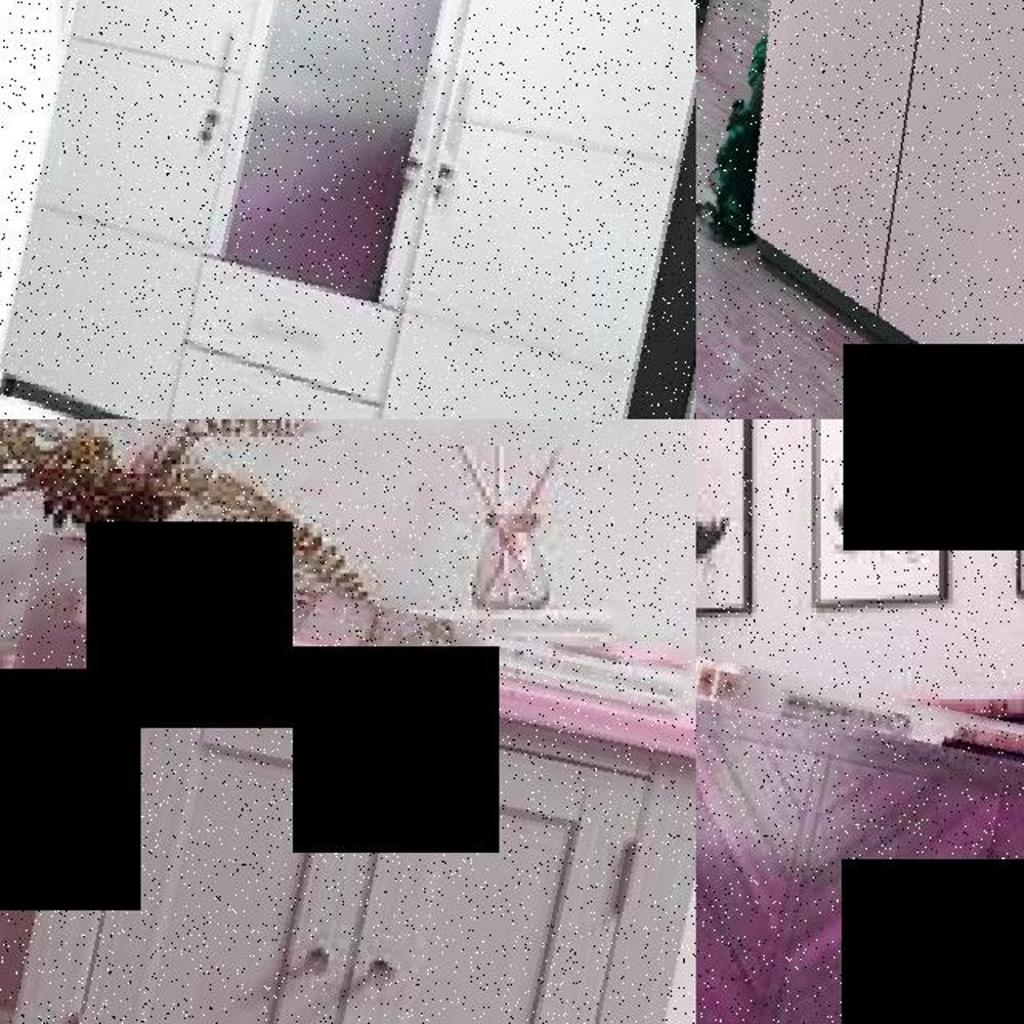cabinet: (0, 568, 696, 1024), (10, 0, 696, 419), (696, 0, 1024, 419), (696, 645, 1024, 1024)
